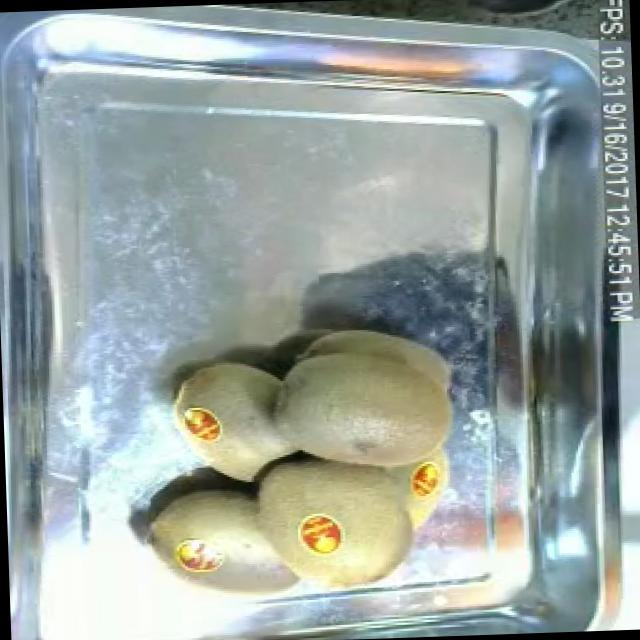Fruit: (260, 311, 468, 486), (162, 346, 301, 496), (289, 503, 351, 565)
